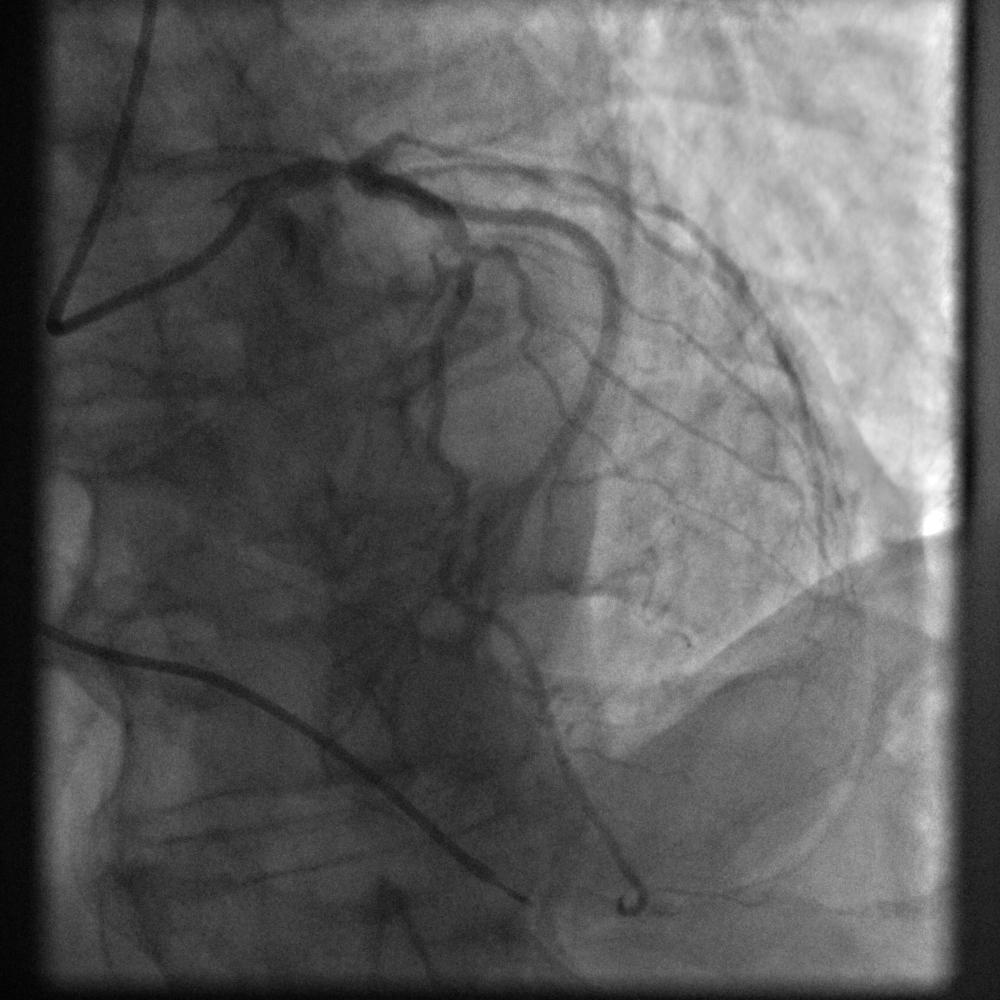Stenosis: (441, 227, 509, 281)
